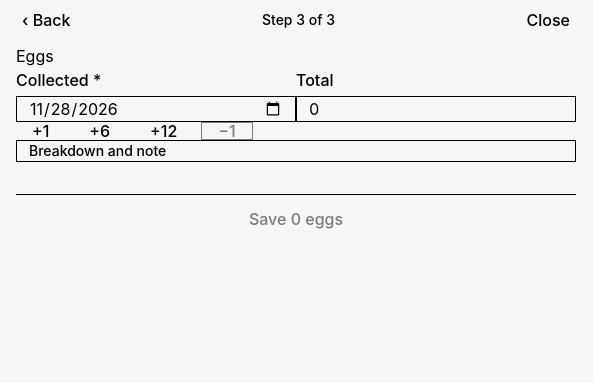
it: the log flow › logs eggs with no animals step
The width and height of the screenshot is (593, 383).
Click the button named "Add 12".
click(164, 131)  # box [134,123,193,139]
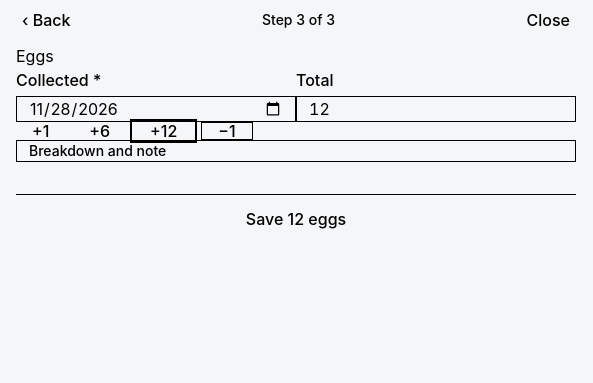
Click the button "Save 12 eggs".
click(296, 219)  # box [16,211,576,227]
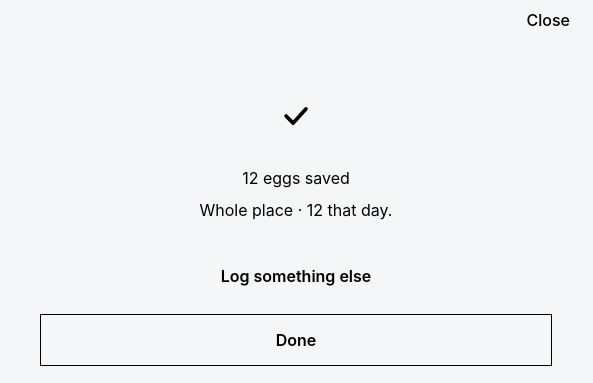
Result: the heading "12 eggs saved" is shown at [242,168,350,188]
